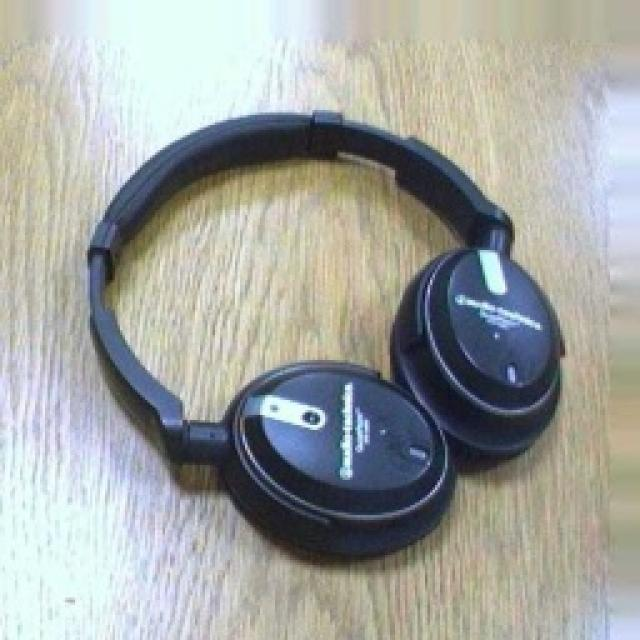headphones: (83, 108, 565, 562)
